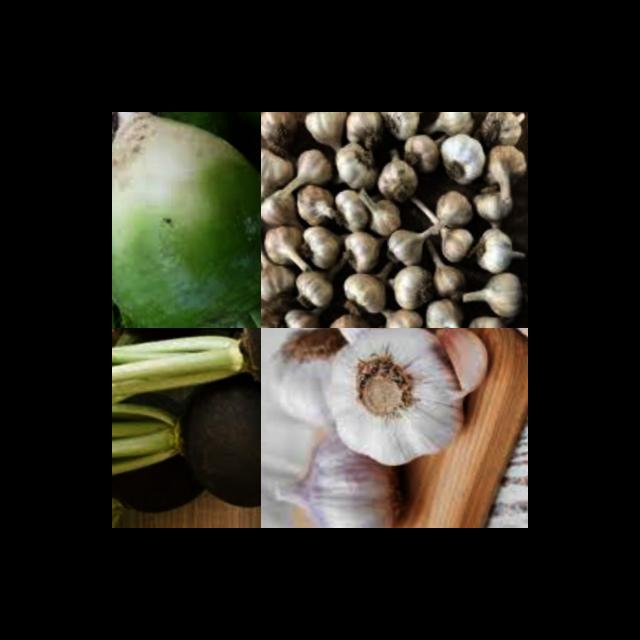garlic: (261, 112, 528, 328), (317, 328, 469, 467), (262, 424, 412, 528), (262, 328, 378, 455), (430, 328, 496, 399)
